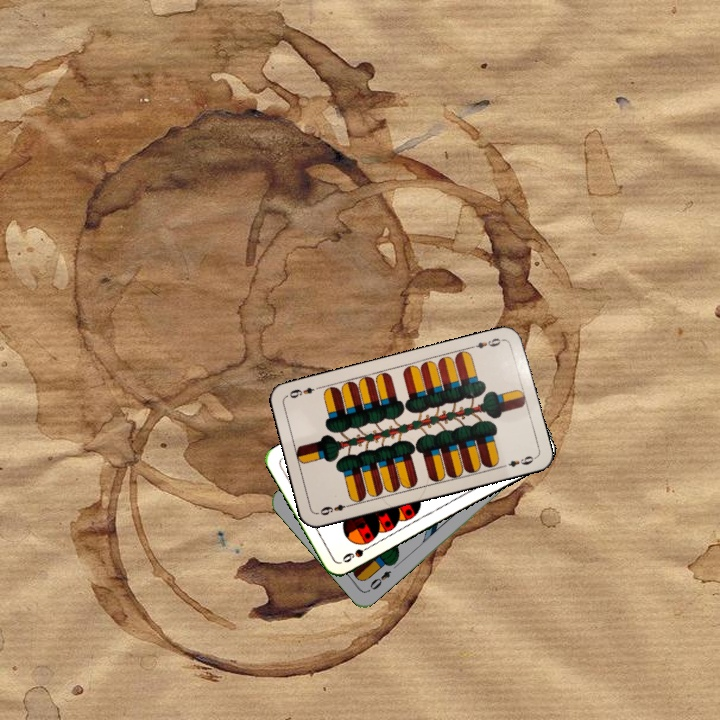E9: (466, 334, 507, 351), (316, 500, 354, 518)
EO: (364, 566, 394, 594)
S9: (338, 540, 376, 565)
